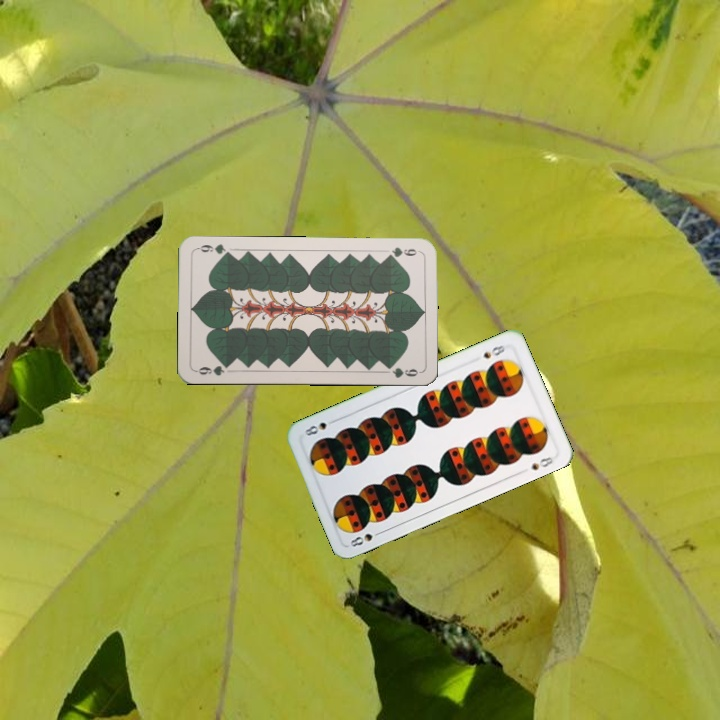G9: (192, 360, 233, 378), (383, 243, 422, 260)
S8: (346, 527, 385, 549), (479, 341, 507, 361)
